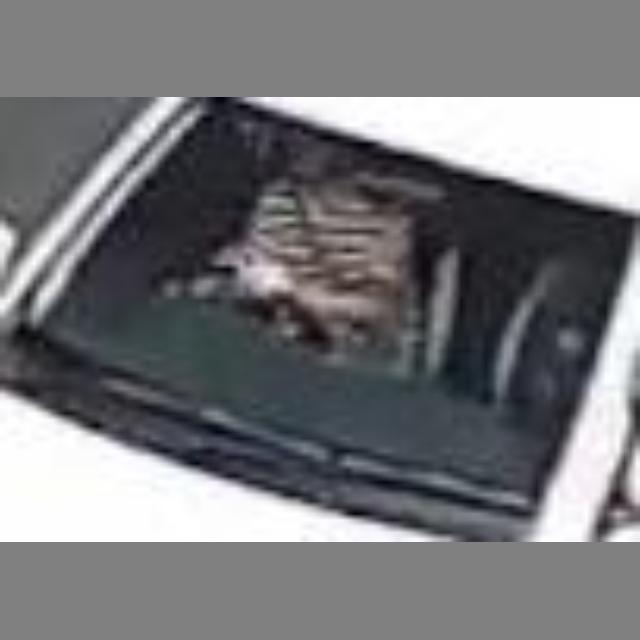pakai: (182, 166, 420, 379)
